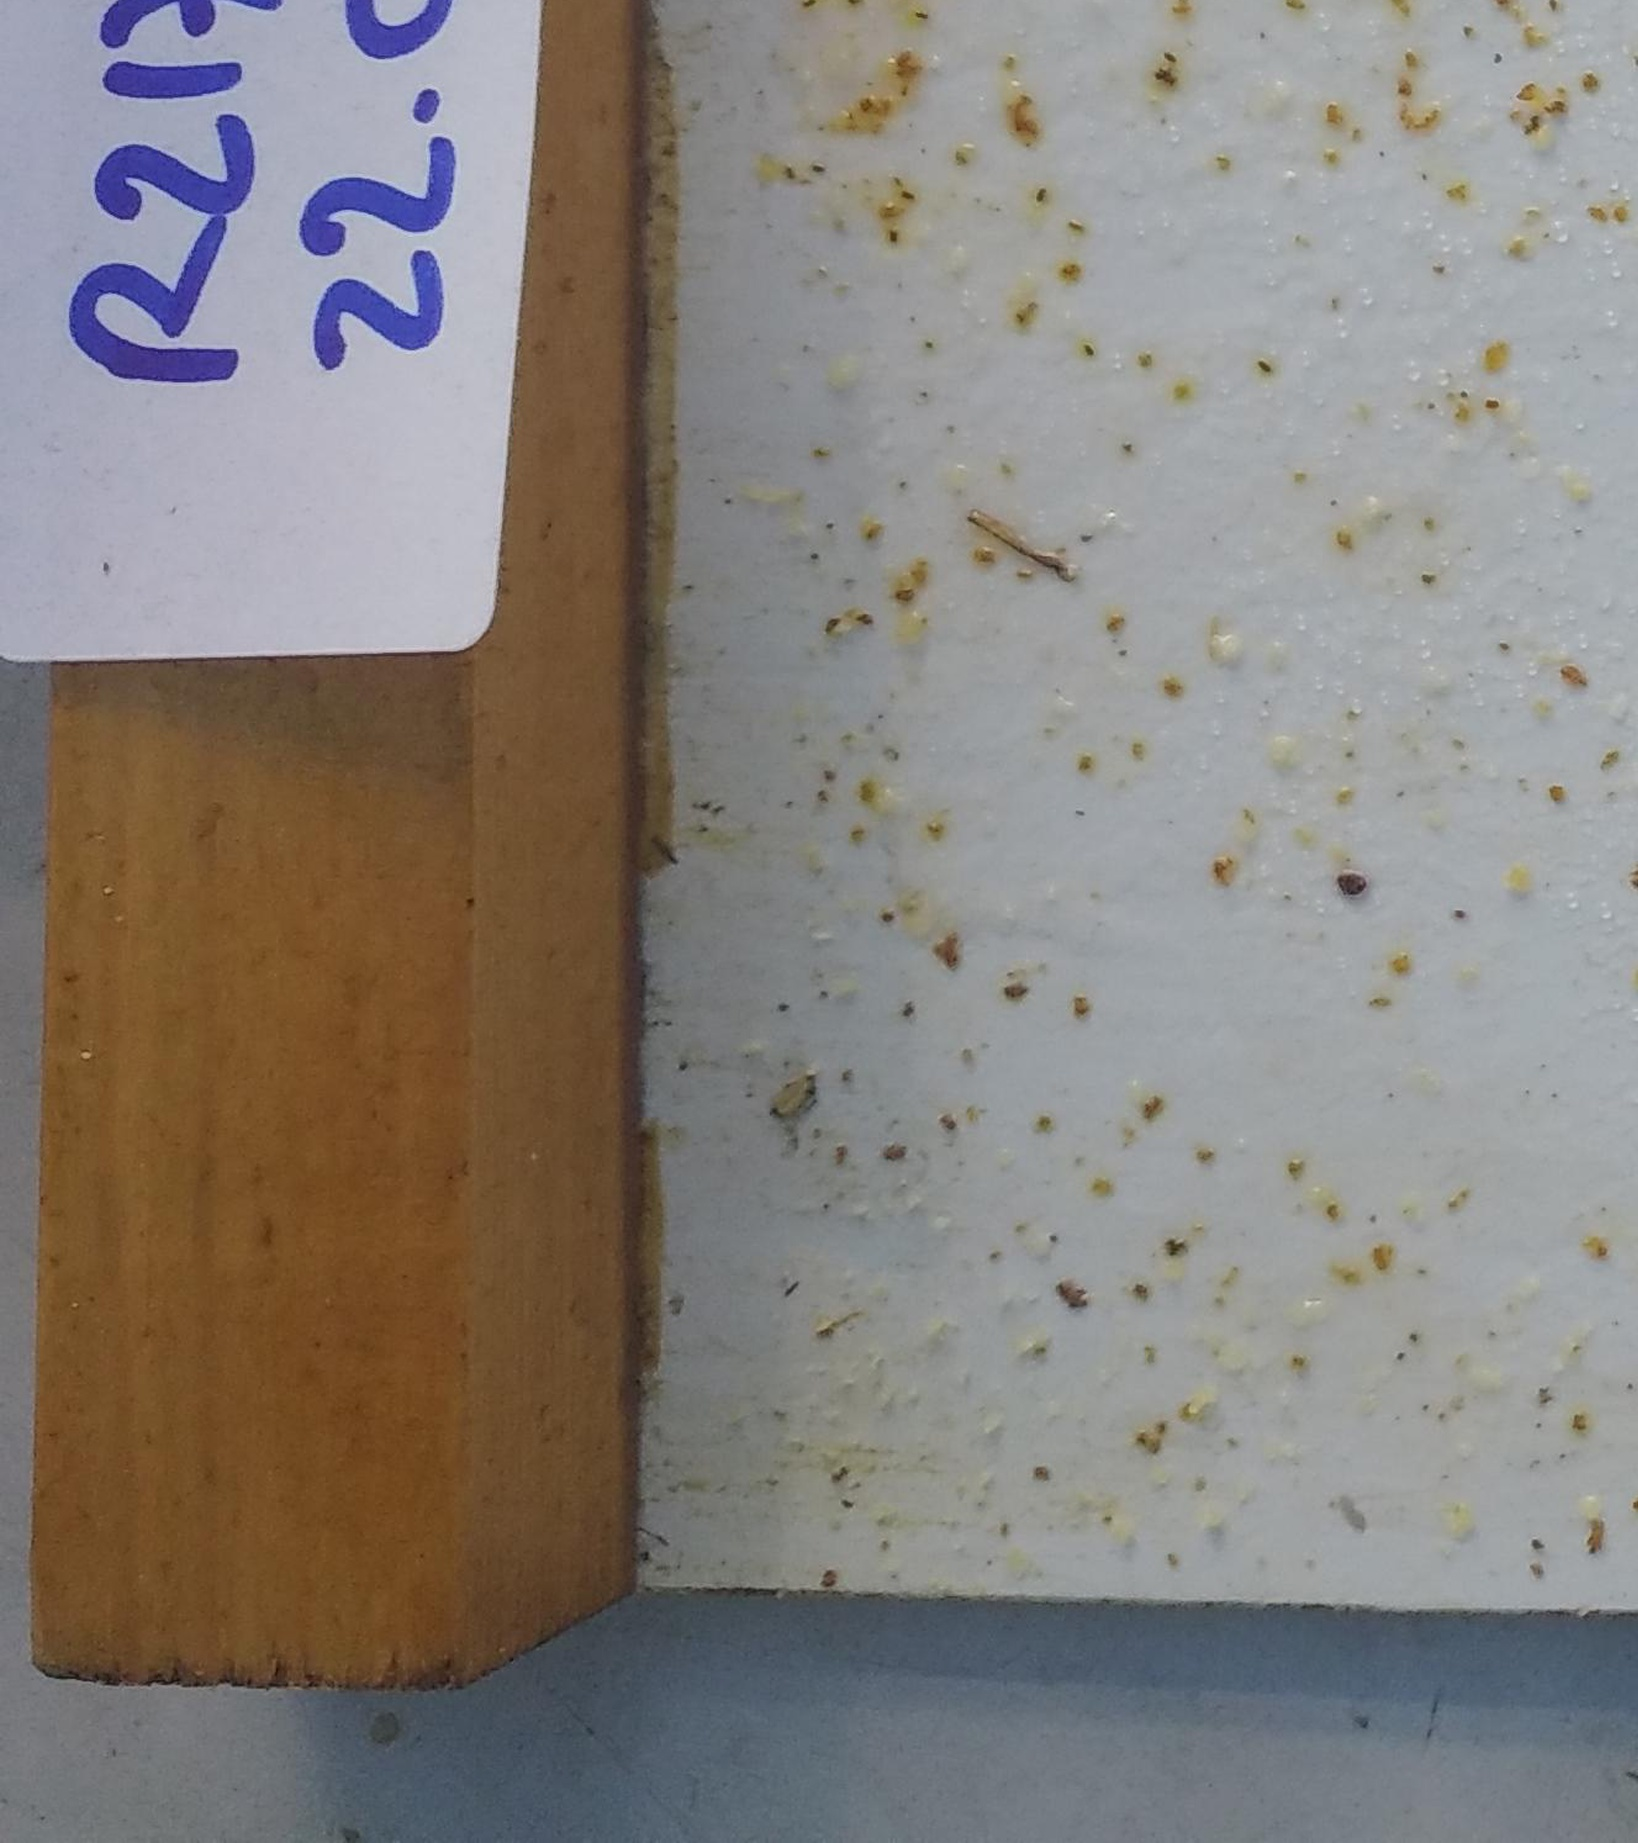Varroa: (1342, 876, 1364, 899)
